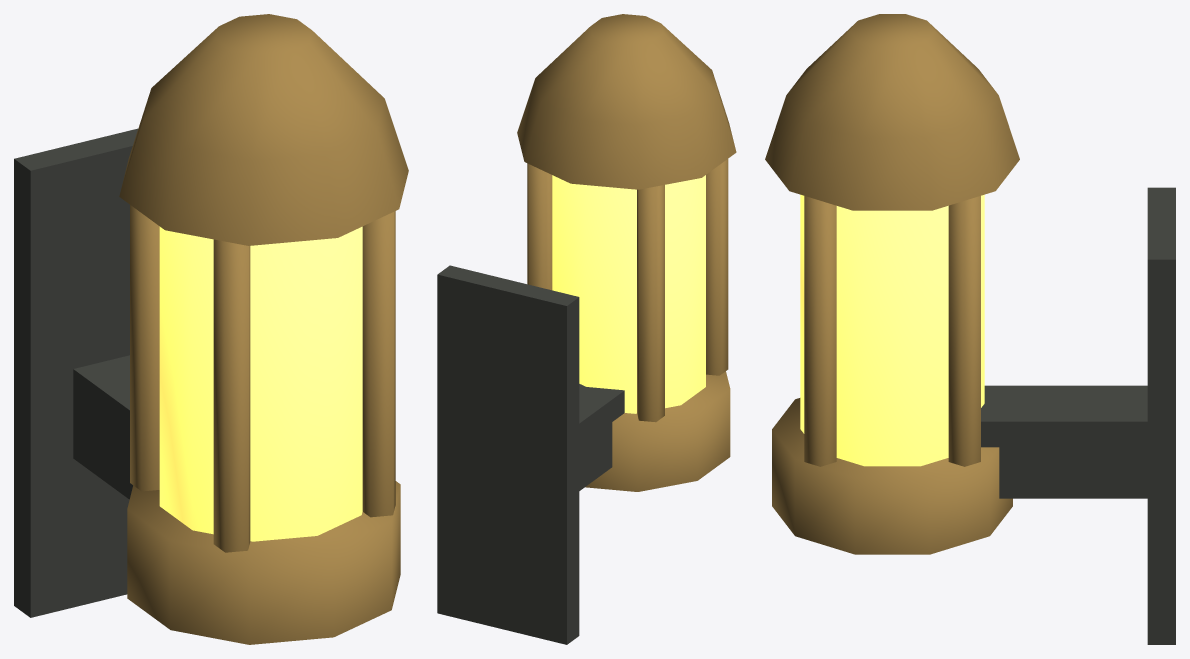
File: b1_lantern.glb
The picture shows the model from 3 angles, left to right: view 1: azimuth 30°, elevation 25°; view 2: azimuth 150°, elevation 25°; view 3: azimuth 270°, elevation 25°; orthographic projection. The views are drawn at different scales.
Visible parts, largest first — view 1: b1_lantern; view 2: b1_lantern; view 3: b1_lantern.
Part boxes in pixels (x1=…): b1_lantern: x1=14, y1=14, x2=408, y2=644; b1_lantern: x1=437, y1=14, x2=736, y2=644; b1_lantern: x1=765, y1=14, x2=1175, y2=644.
Bounding box in the file's own units: 0.1712 × 0.45 × 0.29.
